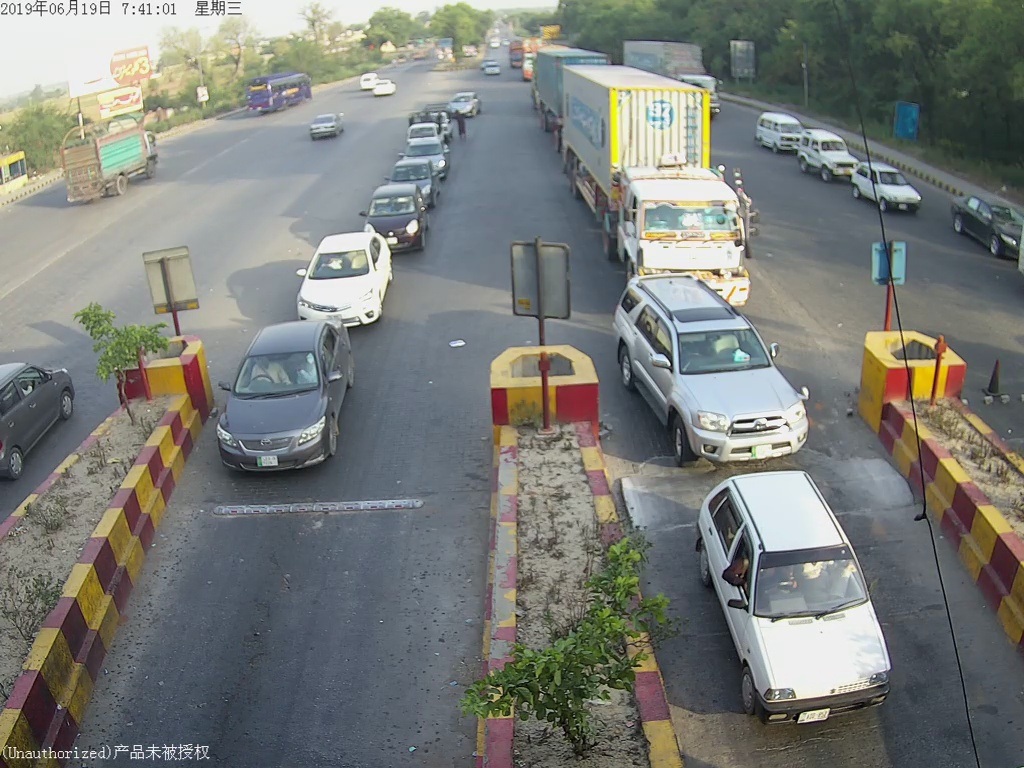Cat-1: (694, 486, 917, 724), (616, 280, 824, 463), (219, 327, 356, 468), (287, 234, 395, 322), (363, 190, 424, 236)
Cat-5: (565, 70, 763, 271)
